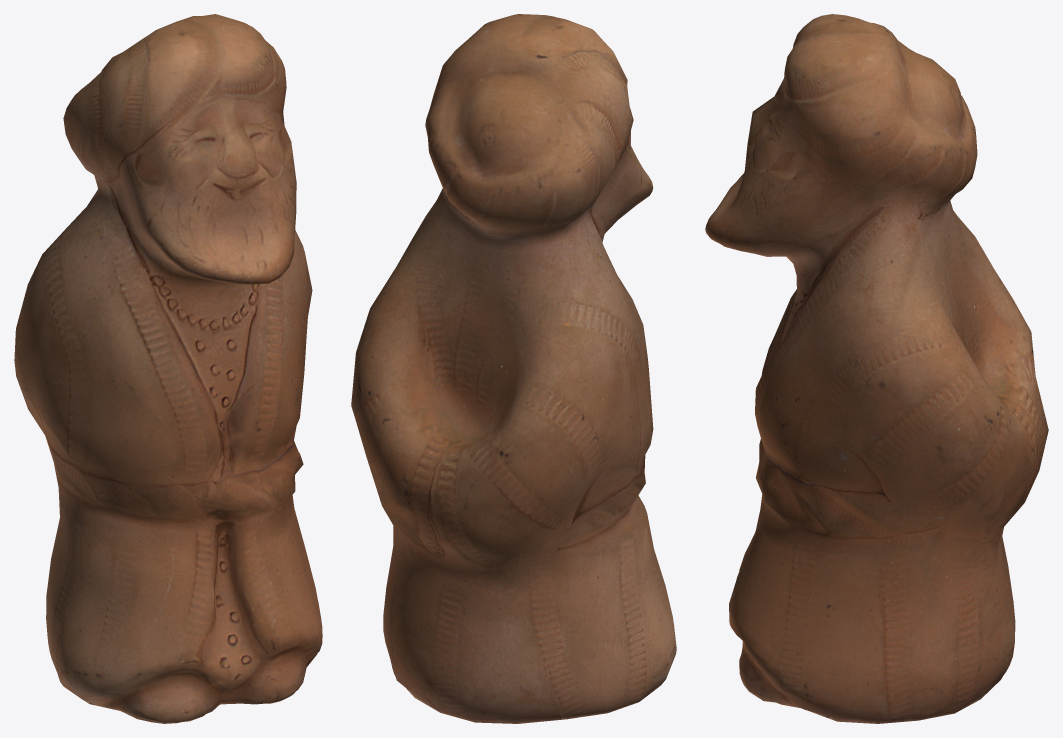
File: statuette_old_man.gltf
3 renders of one model, left to right at view 1: azimuth 30°, elevation 25°; view 2: azimuth 150°, elevation 25°; view 3: azimuth 270°, elevation 25°, orthographic.
Parts seen in each view (by area): view 1: statuette_old_man; view 2: statuette_old_man; view 3: statuette_old_man.
Part boxes in pixels (bbox=[...]): statuette_old_man: bbox=[14, 14, 322, 723]; statuette_old_man: bbox=[351, 14, 676, 723]; statuette_old_man: bbox=[705, 14, 1048, 723].
Bounding box in the file's own units: 12.83 × 30 × 14.5.
1 material, 1 textured.
